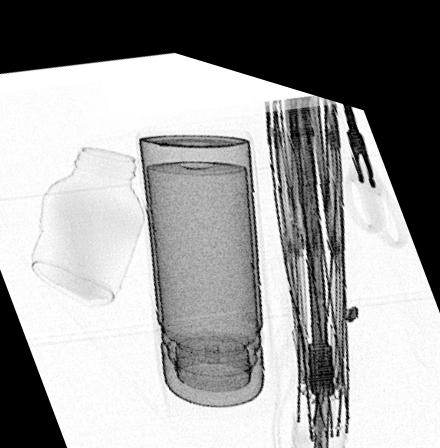Scissors: (340, 83, 412, 228)
